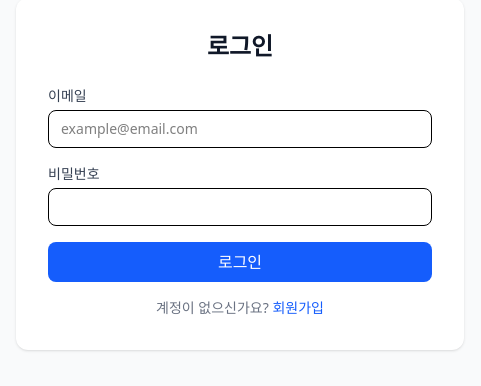
LoginPage › 잘못된 자격증명으로 로그인 실패(401) 시 에러 문구를 표시하고 인증되지 않는다
This screenshot has width=481, height=386.
In the field labelled "이메일": (240, 129) x1=48 y1=110 x2=432 y2=148, type "wrong@example.com"
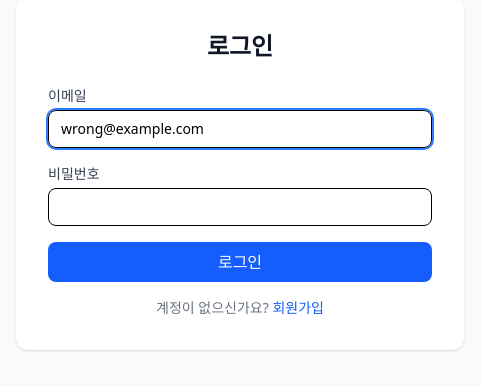
In the password field labelled "비밀번호": (240, 207) x1=48 y1=188 x2=432 y2=226, type "wrongpassword"
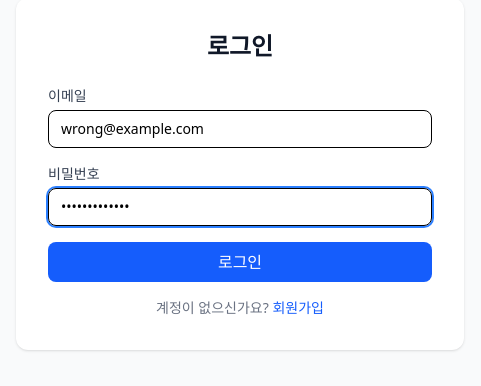
Click the button "로그인": (240, 262) x1=48 y1=242 x2=432 y2=282
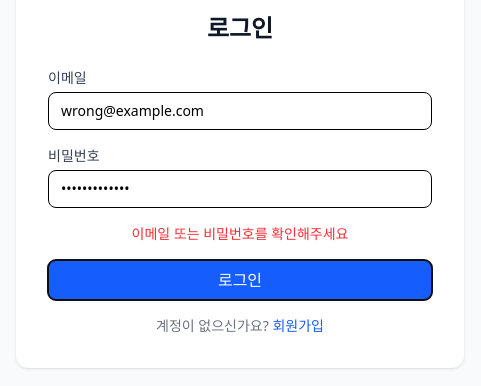
Now the text "이메일 또는 비밀번호를 확인해주세요" is shown, box x1=132 y1=224 x2=348 y2=243
